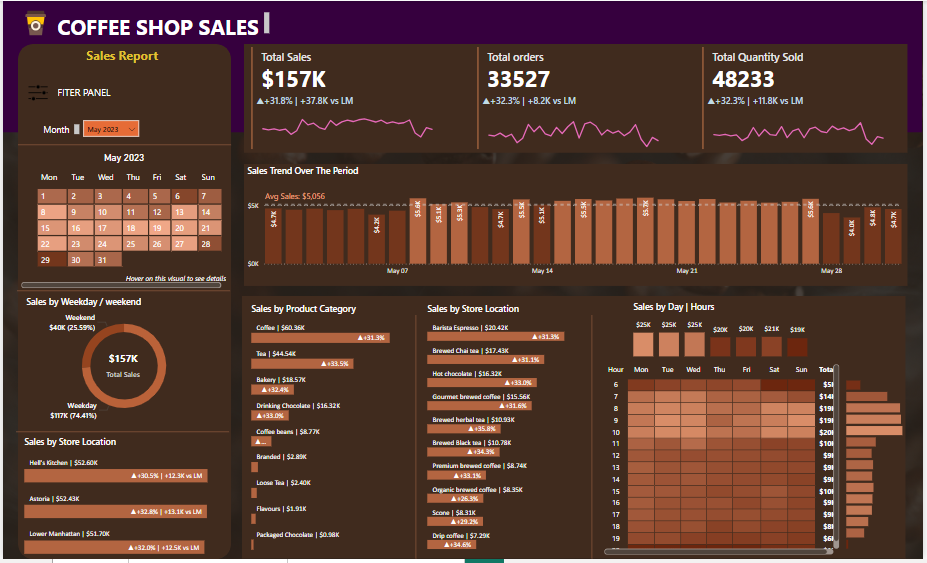

The dashboard page shown, as its layout file describes it:
{"tool":"powerbi","page":{"name":"Page 1","canvas":[1400,850],"ordinal":0},"visuals":[{"type":"shape","box":[364.8,450.1,1010.6,399.9],"z":0},{"type":"shape","box":[0,0,1400,200],"z":1000},{"type":"shape","box":[23.4,65.3,324.6,784.7],"z":2000},{"type":"shape","box":[366.4,65.3,1010.6,165.6],"z":3000},{"type":"textbox","box":[77,11.7,333,46.9],"z":4000},{"type":"cardVisual","fields":{"Data":["Transactions.Total Sales"]},"box":[373.1,65.3,299.5,165.6],"z":4000,"group":"g1"},{"type":"cardVisual","fields":{"Data":["Transactions.Total orders"]},"box":[717,65.3,299.5,165.6],"z":4000,"group":"g2"},{"type":"cardVisual","fields":{"Data":["Transactions.Total Quantity Sold"]},"box":[1060.8,65.3,299.5,165.6],"z":4000,"group":"g3"},{"type":"slicer","fields":{"Values":["Date Table.Month year"]},"box":[117.1,177.4,95.4,36.8],"z":5000},{"type":"lineChart","fields":{"Category":["Date Table.Date Hierarchy.Date"],"Y":["Transactions.Total Sales"]},"box":[381.5,142.3,287.8,85.3],"z":5001,"group":"g1"},{"type":"lineChart","fields":{"Y":["Transactions.Total orders"],"Category":["Date Table.Date Hierarchy.Date"]},"box":[725.4,142.3,287.8,85.3],"z":5001,"group":"g2"},{"type":"lineChart","fields":{"Category":["Date Table.Date Hierarchy.Date"],"Y":["Transactions.Total Quantity Sold"]},"box":[1069.2,142.3,287.8,85.3],"z":5001,"group":"g3"},{"type":"group","id":"g1","title":"Group 1","box":[373.1,65.3,299.5,165.6],"z":6000},{"type":"group","id":"g2","title":"Group 2","box":[717,65.3,299.5,165.6],"z":7000},{"type":"group","id":"g3","title":"Group 3","box":[1060.8,65.3,299.5,165.6],"z":8000},{"type":"pivotTable","fields":{"Columns":["Date Table.Day Name"],"Rows":["Date Table.Week Number"],"Values":["Min(Date Table.Day Number)"]},"box":[23.4,251,314.6,190.7],"z":9000},{"type":"card","fields":{"Values":["Min(Date Table.Month year)"]},"box":[140.6,219.2,88.7,40.2],"z":10000},{"type":"card","fields":{"Values":["Transactions.Foot Note"]},"box":[180.7,408.3,164,35.1],"z":11000},{"type":"shape","box":[21.8,430,324.6,23.4],"z":12000},{"type":"shape","box":[23.4,207.5,324.6,23.4],"z":13000},{"type":"donutChart","title":"Sales by Weekday / weekend","fields":{"Category":["Date Table.Weekday / weekend"],"Y":["Transactions.Total Sales"]},"box":[30.1,450.1,307.9,195.8],"z":14000},{"type":"card","fields":{"Values":["Transactions.Total Sales"]},"box":[140.6,520.4,85.3,66.9],"z":15000},{"type":"shape","box":[20.1,644.2,324.6,23.4],"z":16000},{"type":"clusteredBarChart","title":"Sales by Store Location","fields":{"Category":["Transactions.store_location"],"Y":["Transactions.Placeholder","Transactions.Total Sales"]},"box":[26.8,662.6,314.6,187.4],"z":17000},{"type":"shape","box":[366.4,247.6,1010.6,185.7],"z":18000},{"type":"columnChart","title":"Sales Trend Over The Period","fields":{"Category":["Transactions.transaction_date"],"Y":["Transactions.Total Sales"]},"box":[366.4,249.3,1010.6,177.4],"z":19000},{"type":"clusteredBarChart","title":"Sales by Product Category","fields":{"Y":["Transactions.Placeholder","Transactions.Total Sales"],"Category":["Transactions.product_category"]},"box":[373.1,460.1,249.3,381.5],"z":20000},{"type":"clusteredBarChart","title":"Sales by Store Location","fields":{"Y":["Transactions.Placeholder","Transactions.Total Sales"],"Category":["Transactions.product_type"]},"box":[641.2,459.3,249.9,380.3],"z":21000},{"type":"shape","box":[617.3,478.9,23.9,371.1],"z":22000},{"type":"shape","box":[885.6,478.9,23.9,371.1],"z":23000},{"type":"pivotTable","fields":{"Rows":["Transactions.Hour"],"Columns":["Date Table.Day Name"],"Values":["Transactions.Total Sales"]},"box":[910.2,548.8,368.1,299.5],"z":24000},{"type":"barChart","fields":{"Category":["Transactions.Hour"],"Y":["Transactions.Total Sales"]},"box":[1280,565.6,97,274.4],"z":24001},{"type":"columnChart","title":"Sales by Day | Hours","fields":{"Y":["Transactions.Total Sales"],"Category":["Date Table.Day Name"]},"box":[955.4,456.8,276.1,90.4],"z":24002},{"type":"textbox","box":[56.9,182.4,65.3,25.1],"z":24003},{"type":"textbox","box":[122.1,65.3,140.6,35.1],"z":24004},{"type":"textbox","box":[77,123.8,128.8,35.1],"z":24005},{"type":"image","box":[30.1,118.8,46.9,41.8],"z":24006},{"type":"image","box":[20.1,1.7,60.2,63.6],"z":24007}]}

Visuals, with their boxes in screenshot pixels (x1, y1, x2, y2), scaled from the page's 1400x850 canvas onto the 927x563 screenshot:
shape: 242, 298, 911, 562
shape: 0, 0, 926, 132
shape: 15, 43, 230, 562
shape: 243, 43, 912, 153
textbox: 51, 8, 271, 39
cardVisual - Transactions.Total Sales: 247, 43, 445, 153
cardVisual - Transactions.Total orders: 475, 43, 673, 153
cardVisual - Transactions.Total Quantity Sold: 702, 43, 901, 153
slicer - Date Table.Month year: 78, 118, 141, 142
lineChart - Date Table.Date Hierarchy.Date x Transactions.Total Sales: 253, 94, 443, 151
lineChart - Transactions.Total orders x Date Table.Date Hierarchy.Date: 480, 94, 671, 151
lineChart - Date Table.Date Hierarchy.Date x Transactions.Total Quantity Sold: 708, 94, 899, 151
"Group 1" group: 247, 43, 445, 153
"Group 2" group: 475, 43, 673, 153
"Group 3" group: 702, 43, 901, 153
pivotTable - Date Table.Day Name x Date Table.Week Number: 15, 166, 224, 293
card - Min(Date Table.Month year): 93, 145, 152, 172
card - Transactions.Foot Note: 120, 270, 228, 294
shape: 14, 285, 229, 300
shape: 15, 137, 230, 153
"Sales by Weekday / weekend" donutChart: 20, 298, 224, 428
card - Transactions.Total Sales: 93, 345, 150, 389
shape: 13, 427, 228, 442
"Sales by Store Location" clusteredBarChart: 18, 439, 226, 562
shape: 243, 164, 912, 287
"Sales Trend Over The Period" columnChart: 243, 165, 912, 283
"Sales by Product Category" clusteredBarChart: 247, 305, 412, 557
"Sales by Store Location" clusteredBarChart: 425, 304, 590, 556
shape: 409, 317, 425, 562
shape: 586, 317, 602, 562
pivotTable - Transactions.Hour x Date Table.Day Name: 603, 363, 846, 562
barChart - Transactions.Hour x Transactions.Total Sales: 848, 375, 912, 556
"Sales by Day | Hours" columnChart: 633, 303, 815, 362
textbox: 38, 121, 81, 137
textbox: 81, 43, 174, 67
textbox: 51, 82, 136, 105
image: 20, 79, 51, 106
image: 13, 1, 53, 43
